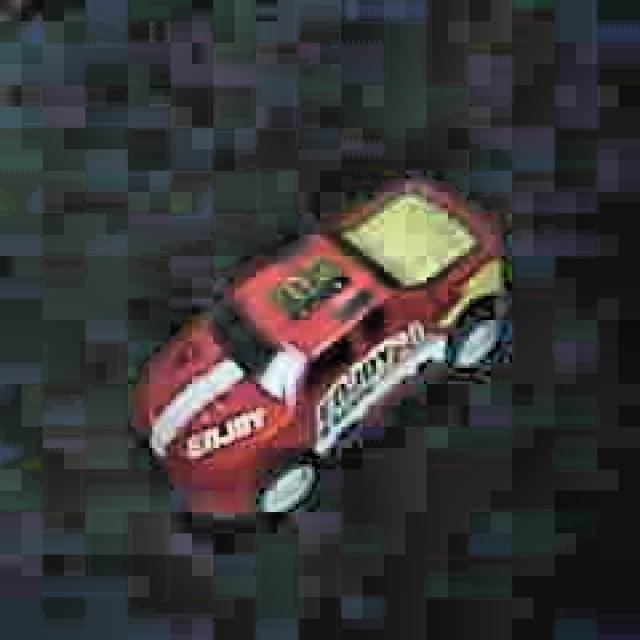car: (126, 171, 504, 520)
